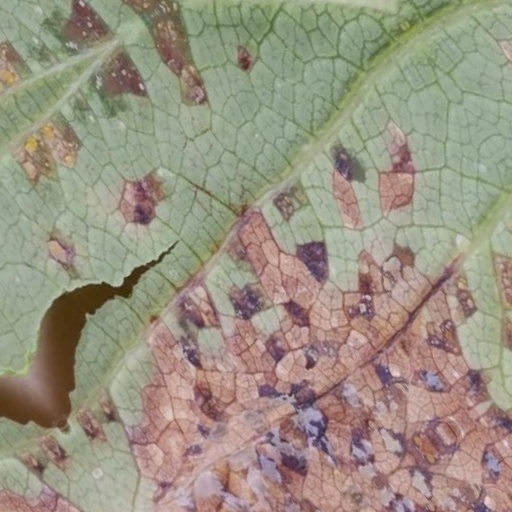Angular Leafspot: (0, 0, 511, 511)
